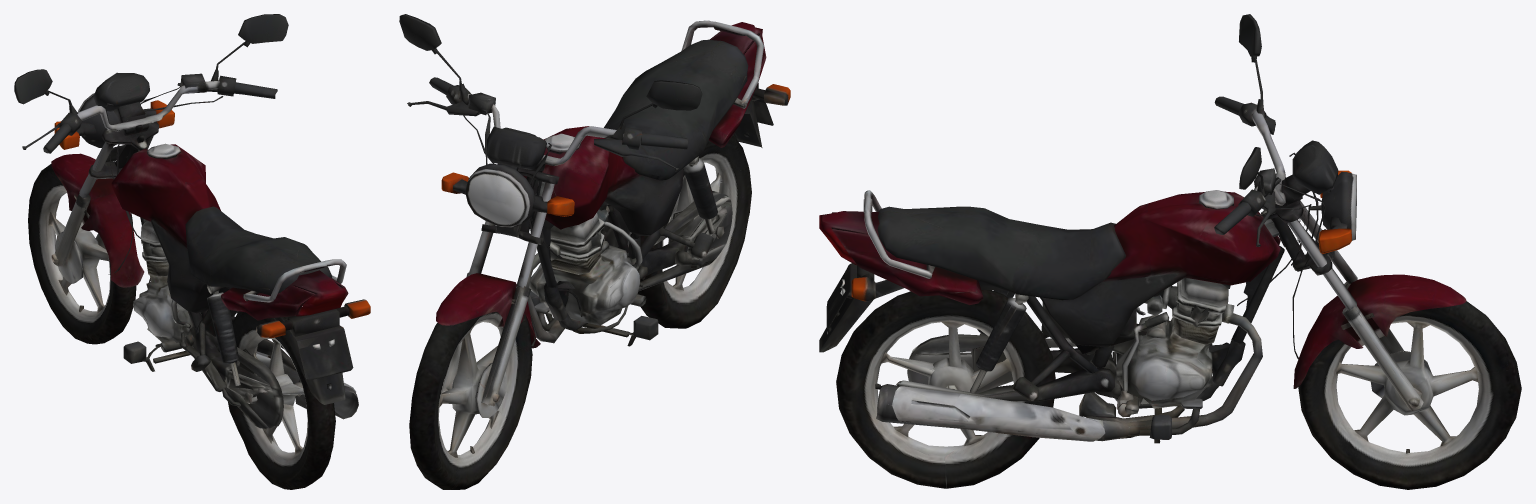
The model's file is moto-utilitaria-150.glb.
3 views of the same model, side by side, from view 1: azimuth 30°, elevation 25°; view 2: azimuth 150°, elevation 25°; view 3: azimuth 270°, elevation 25° (orthographic). The views are drawn at different scales.
Visible parts, largest first — view 1: quadro, dianteira, traseira; view 2: quadro, dianteira, traseira; view 3: quadro, dianteira, traseira.
Part boxes in pixels (x1=…): quadro: x1=14, y1=14, x2=370, y2=428; dianteira: x1=28, y1=164, x2=136, y2=344; traseira: x1=228, y1=311, x2=335, y2=489; quadro: x1=399, y1=14, x2=790, y2=406; dianteira: x1=409, y1=312, x2=532, y2=489; traseira: x1=637, y1=135, x2=751, y2=328; quadro: x1=819, y1=14, x2=1466, y2=443; dianteira: x1=1298, y1=301, x2=1521, y2=489; traseira: x1=836, y1=290, x2=1055, y2=488.
Bounding box in the file's own units: 1.03 × 1.24 × 1.97.
1 material, 1 textured.
